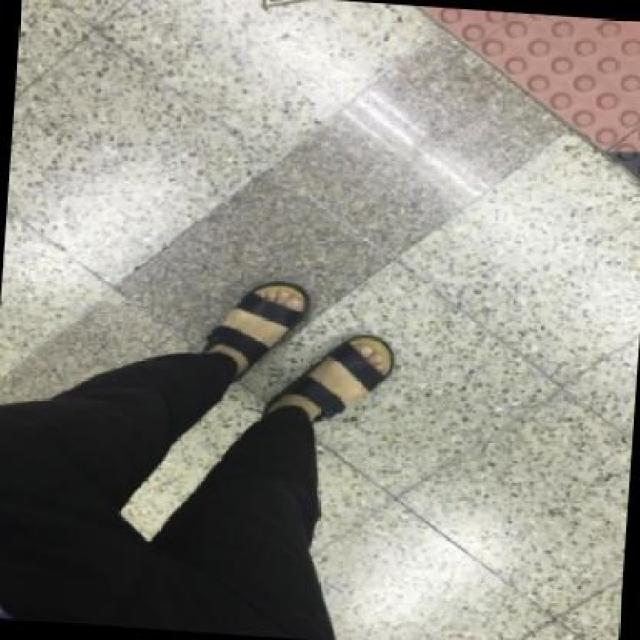Sandals: (177, 280, 313, 371)
